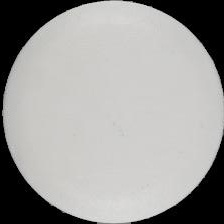10544-189: (0, 0, 224, 224)
